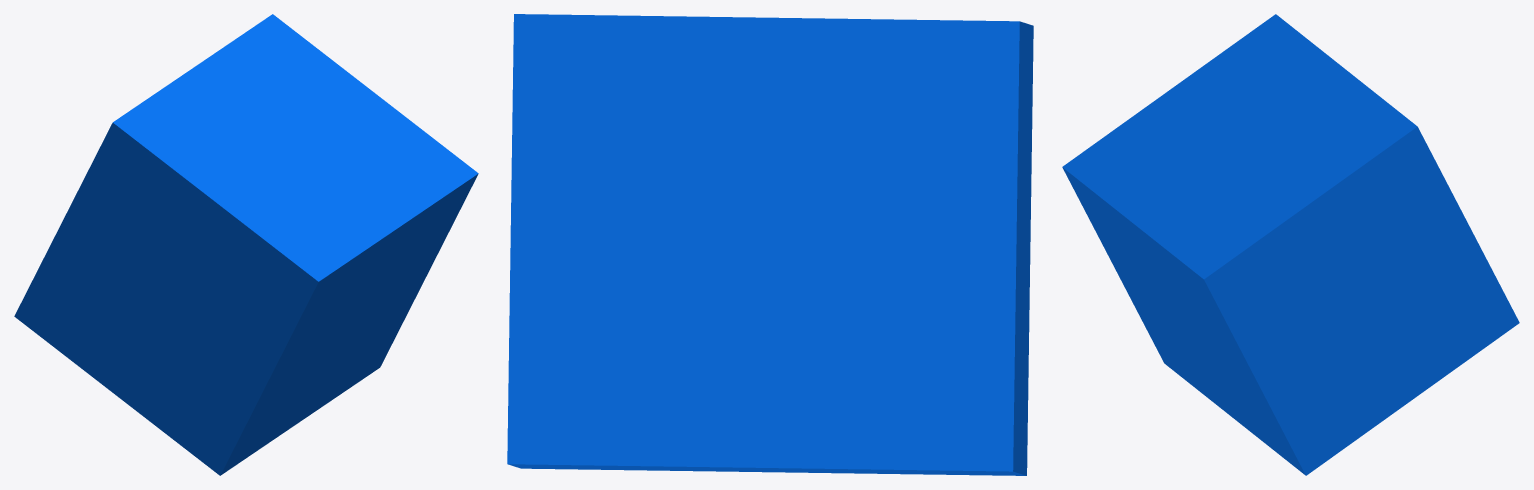
Rendered from paint-cube.glb.
3 views of the same model, side by side, from view 1: azimuth 30°, elevation 25°; view 2: azimuth 150°, elevation 25°; view 3: azimuth 270°, elevation 25° (orthographic). The views are drawn at different scales.
Parts seen in each view (by area): view 1: mesh_id27; view 2: mesh_id27; view 3: mesh_id27.
Boxes of the visible parts, x1,y1,x2,y2 form: mesh_id27: (14,14,478,475); mesh_id27: (507,14,1033,475); mesh_id27: (1062,14,1519,475).
Size of the model in its own units: 0.3194 by 0.2631 by 0.3365.
Materials: 1 (1 with a texture image).
